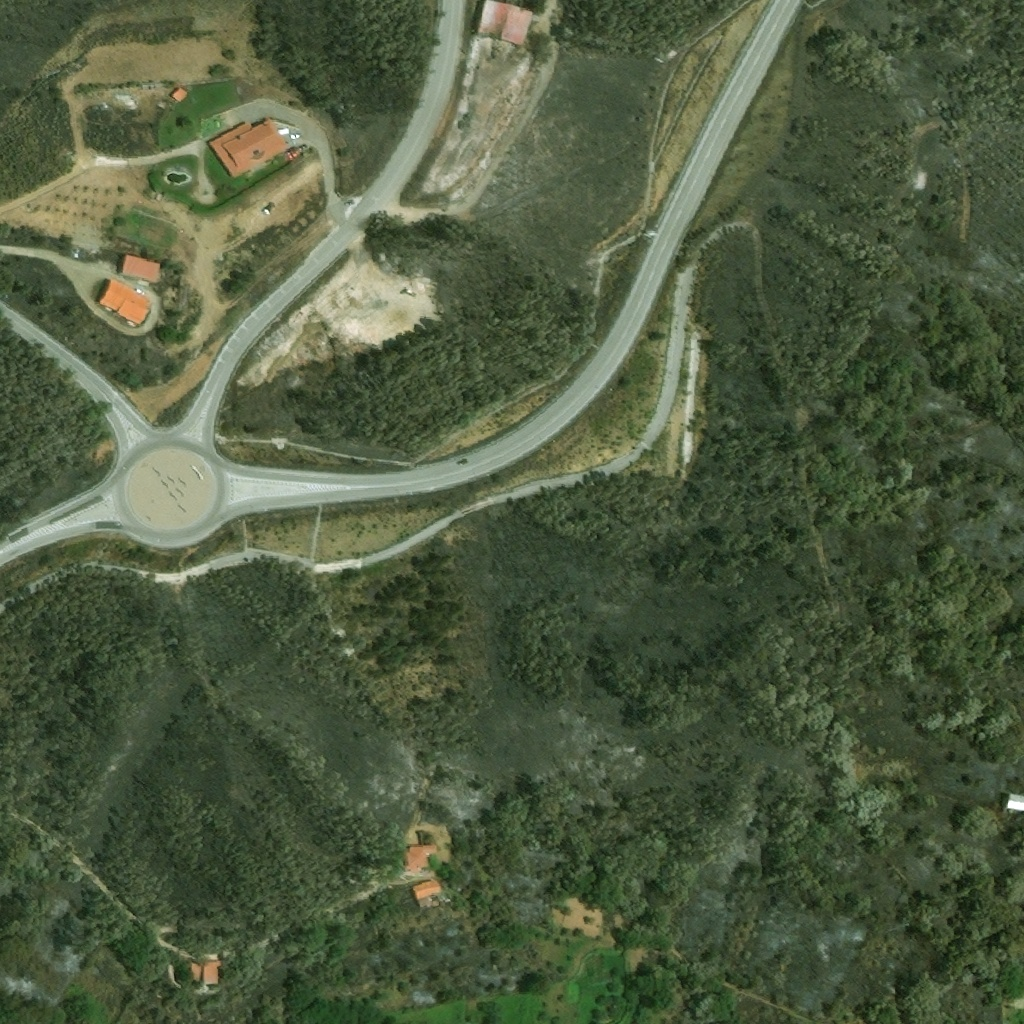0 no-damage: (207, 116, 292, 178), (475, 0, 535, 47), (98, 275, 154, 325), (119, 253, 163, 283), (403, 843, 440, 873), (411, 878, 446, 908), (202, 960, 226, 984), (1004, 792, 1023, 811), (172, 85, 189, 103), (191, 961, 200, 982), (74, 253, 79, 258)
